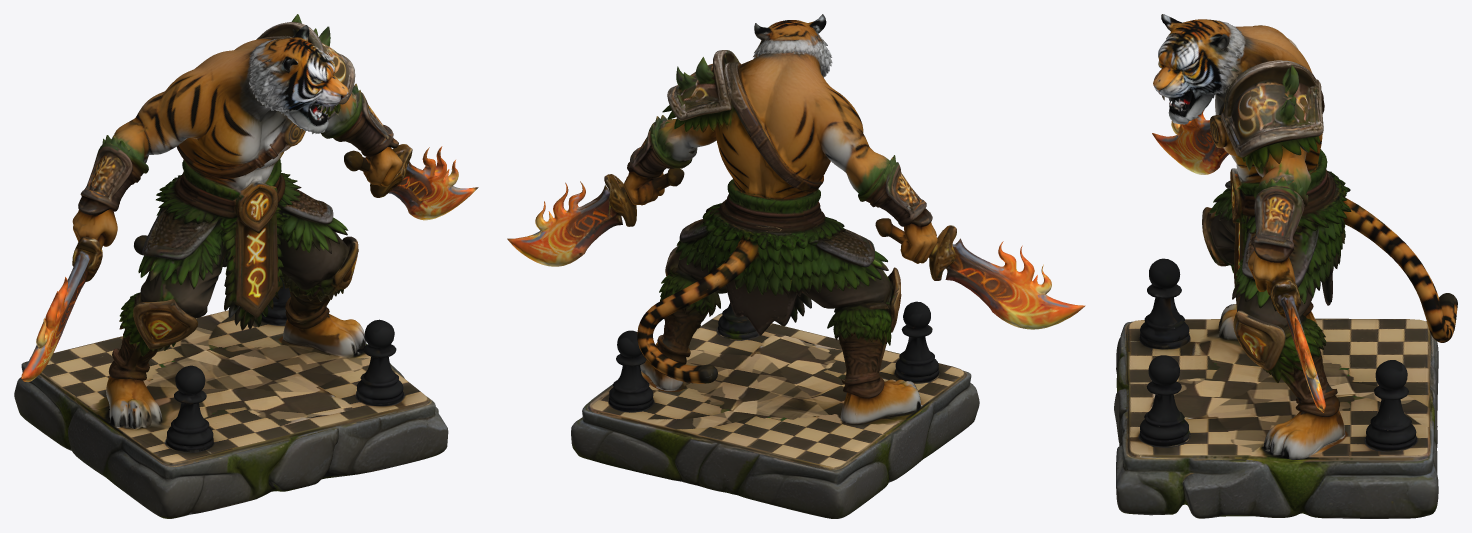
File: tiger_test.glb
3 views of the same model, side by side, from view 1: azimuth 30°, elevation 25°; view 2: azimuth 150°, elevation 25°; view 3: azimuth 270°, elevation 25° (orthographic). The views are drawn at different scales.
Parts seen in each view (by area): view 1: node_0; view 2: node_0; view 3: node_0.
Boxes of the visible parts, x1=… form: node_0: x1=14, y1=14, x2=478, y2=518; node_0: x1=507, y1=14, x2=1085, y2=518; node_0: x1=1114, y1=14, x2=1457, y2=518.
Size of the model in its own units: 1.1 by 0.8056 by 0.5777.
1 material, 1 textured.
